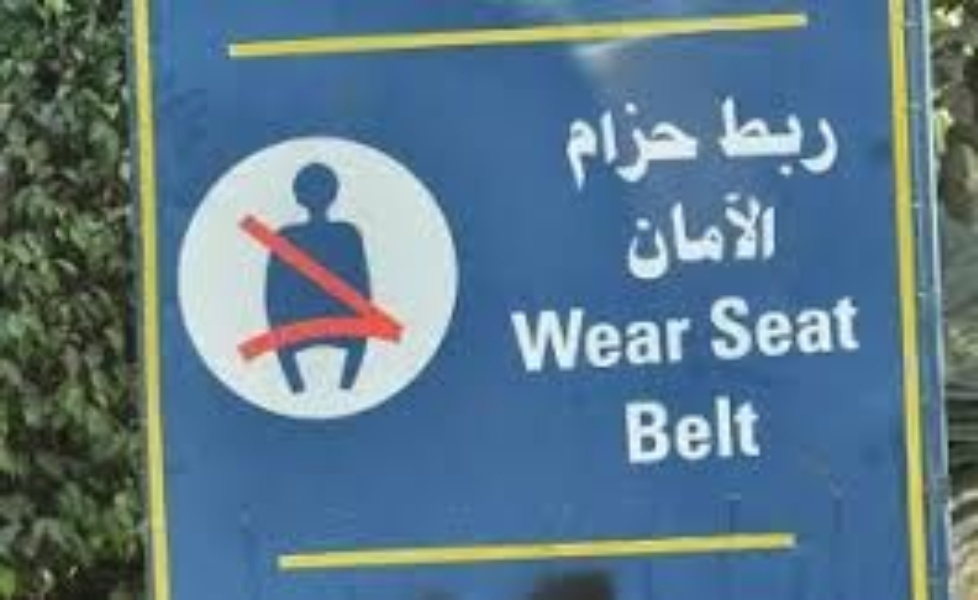text: (625, 189, 640, 282), (641, 189, 656, 282), (657, 189, 672, 282), (673, 189, 688, 282), (689, 189, 704, 282), (705, 189, 720, 282), (721, 189, 736, 282), (737, 189, 752, 282), (753, 189, 768, 282), (561, 101, 576, 193), (577, 101, 592, 193), (593, 101, 608, 193), (609, 101, 624, 193), (625, 101, 640, 193), (641, 101, 656, 193), (657, 101, 672, 193), (673, 101, 688, 193), (721, 89, 736, 178), (737, 89, 752, 178), (753, 89, 768, 178), (769, 89, 784, 178), (785, 89, 800, 178), (801, 89, 816, 178), (817, 89, 832, 178), (513, 304, 528, 378), (529, 304, 544, 378), (545, 304, 560, 378), (561, 304, 576, 378), (577, 304, 592, 378), (593, 304, 608, 378), (609, 304, 624, 378), (625, 304, 640, 378), (641, 304, 656, 378), (657, 304, 672, 378), (673, 304, 688, 378), (641, 393, 656, 467), (657, 393, 672, 467), (673, 393, 688, 467), (689, 393, 704, 467), (705, 393, 720, 467), (721, 393, 736, 467), (737, 393, 752, 467), (705, 293, 720, 363), (721, 293, 736, 363), (737, 293, 752, 363), (753, 293, 768, 363), (769, 293, 784, 363), (785, 293, 800, 363), (801, 293, 816, 363), (817, 293, 832, 363), (833, 293, 848, 363), (627, 393, 640, 467), (615, 189, 624, 282), (753, 393, 764, 467), (849, 293, 860, 363), (689, 101, 697, 193), (833, 89, 841, 178), (769, 189, 775, 282), (715, 89, 720, 178), (508, 304, 512, 378), (689, 304, 693, 378)
